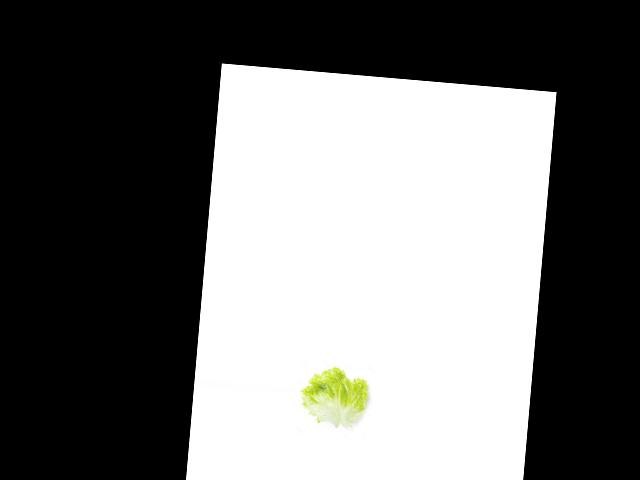lettuce: (296, 366, 376, 432)
